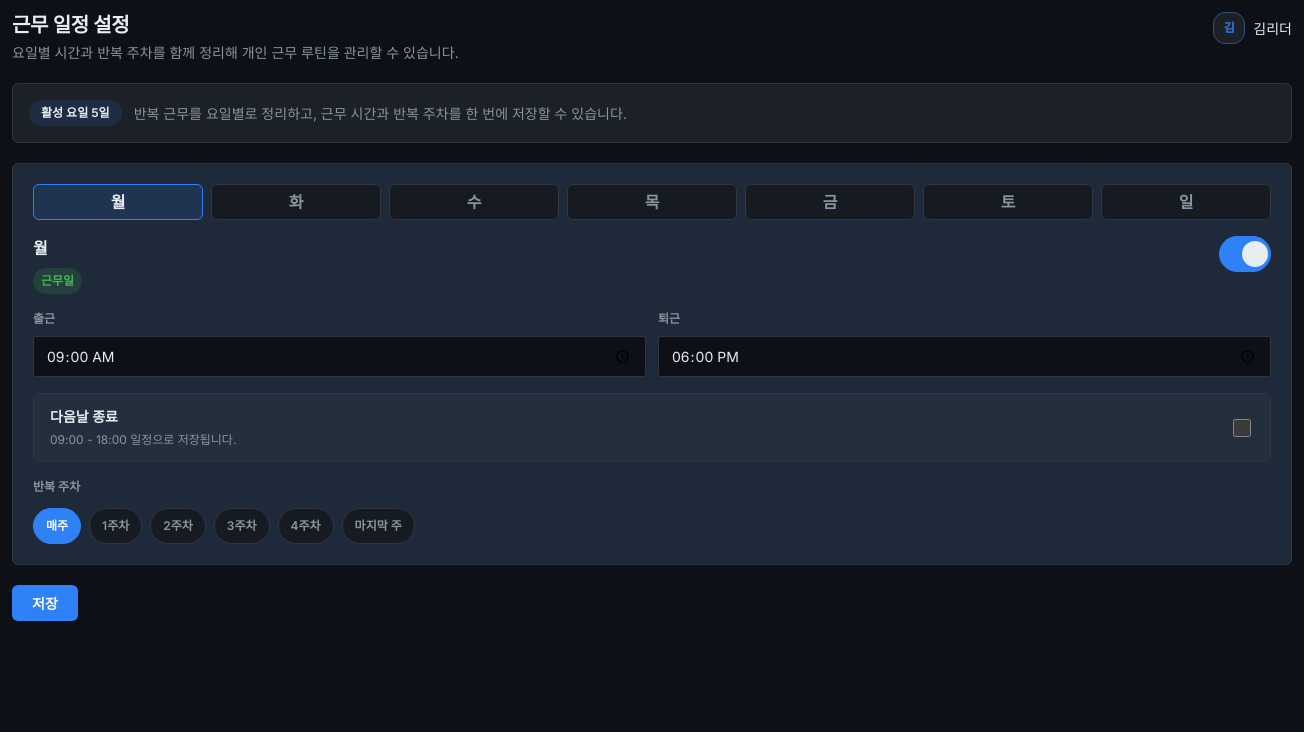
Scenario: SetWorkDaysPersonal › 야간 근무 일정은 다음날 종료 토글 상태를 복원한다
This screenshot has width=1304, height=732.
Click the tab "금" at x=830, y=202, box [745,184,915,220]
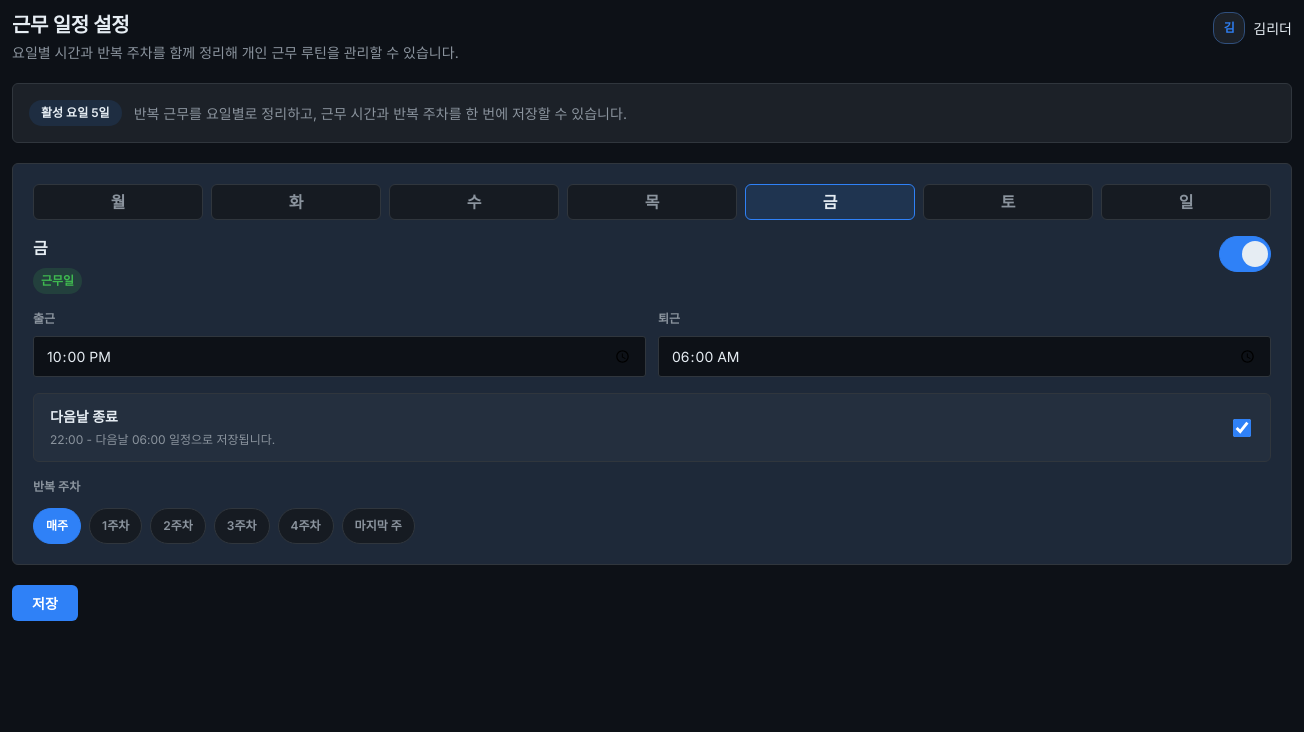
Expected: the checkbox named "금 다음날 종료" is checked, [1233,410,1251,446]
Expected: the text "22:00 - 다음날 06:00 일정으로 저장됩니다." is shown, [50,431,275,449]
